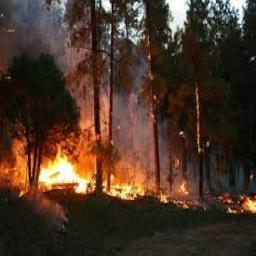Medium fire: (22, 120, 256, 209)
